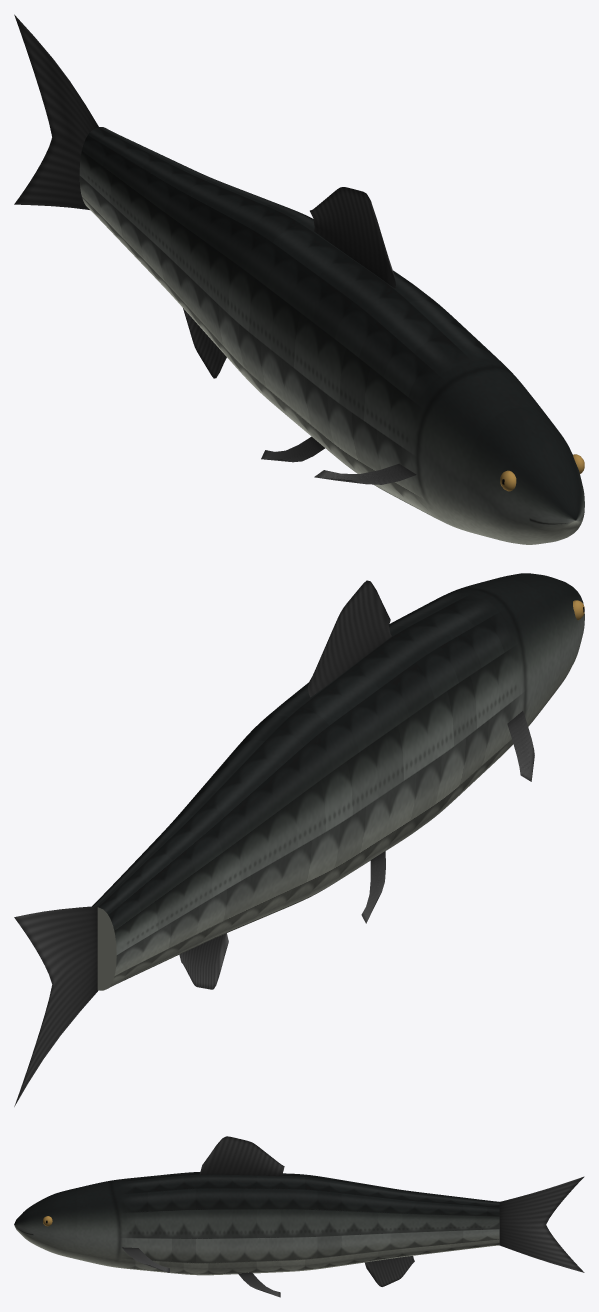
The model's file is black_amur.obj.
3 renders of one model, top to bottom at view 1: azimuth 30°, elevation 25°; view 2: azimuth 150°, elevation 25°; view 3: azimuth 270°, elevation 25°, orthographic. The views are drawn at different scales.
Parts seen in each view (by area): view 1: black_amur_body, black_amur_fin_p, black_amur_fin_d; view 2: black_amur_body, black_amur_fin_p, black_amur_fin_d; view 3: black_amur_body, black_amur_fin_p, black_amur_fin_d.
Boxes of the visible parts, x1,y1,x2,y2 form: black_amur_body: (79, 127, 584, 544); black_amur_fin_p: (14, 14, 416, 484); black_amur_fin_d: (310, 187, 395, 287); black_amur_body: (92, 573, 584, 990); black_amur_fin_p: (14, 711, 534, 1106); black_amur_fin_d: (308, 580, 391, 697); black_amur_body: (14, 1172, 499, 1275); black_amur_fin_p: (122, 1176, 584, 1297); black_amur_fin_d: (199, 1136, 284, 1176).
Size of the model in its own units: 0.2106 by 0.2742 by 0.9408.
Materials: 5 (3 with a texture image).
